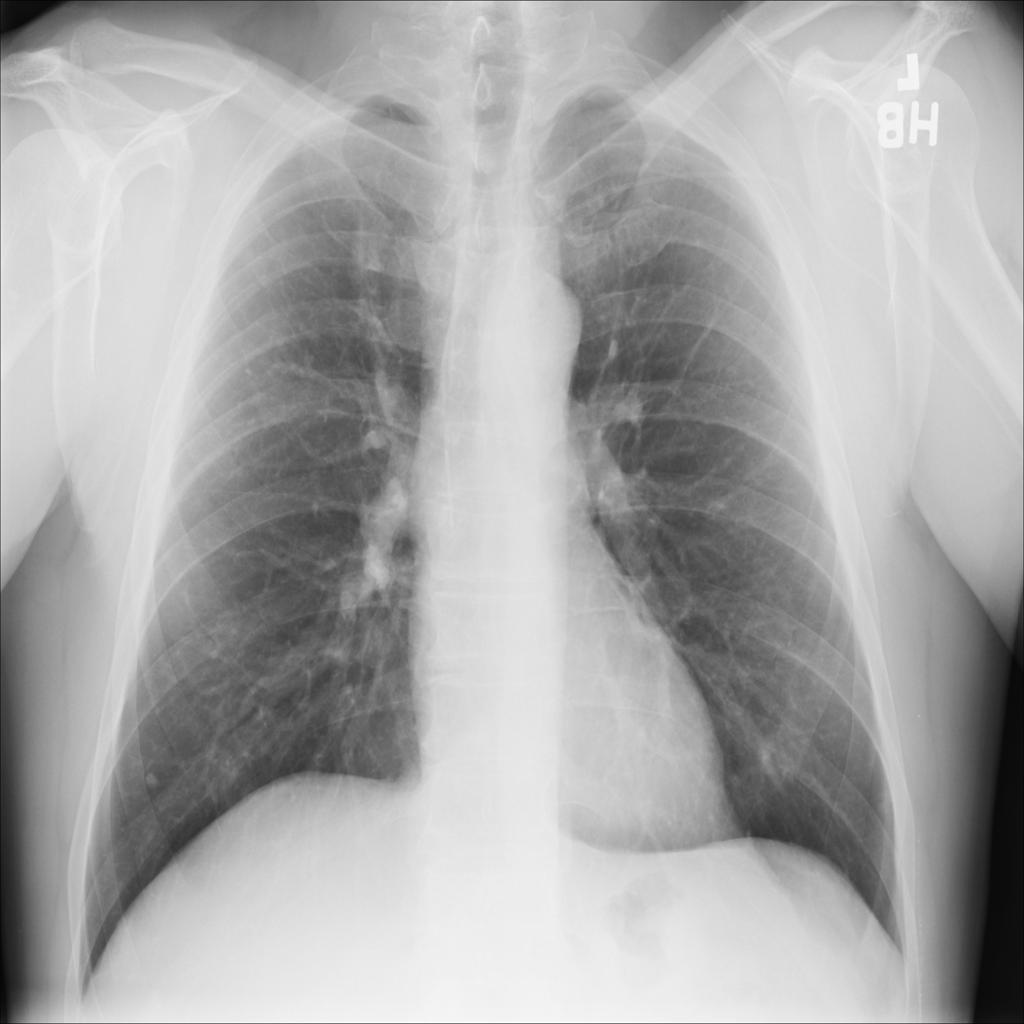nodule: (125, 756, 172, 810)
